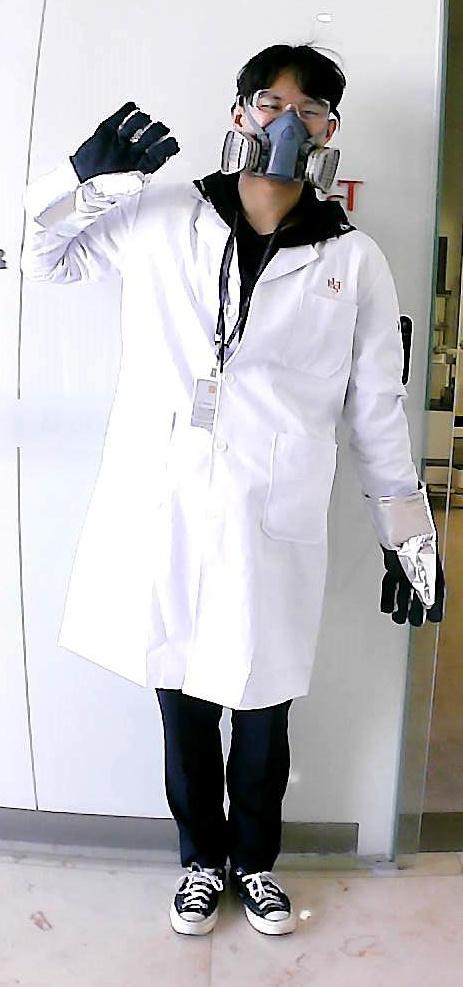lab_coat: (71, 238, 370, 675)
